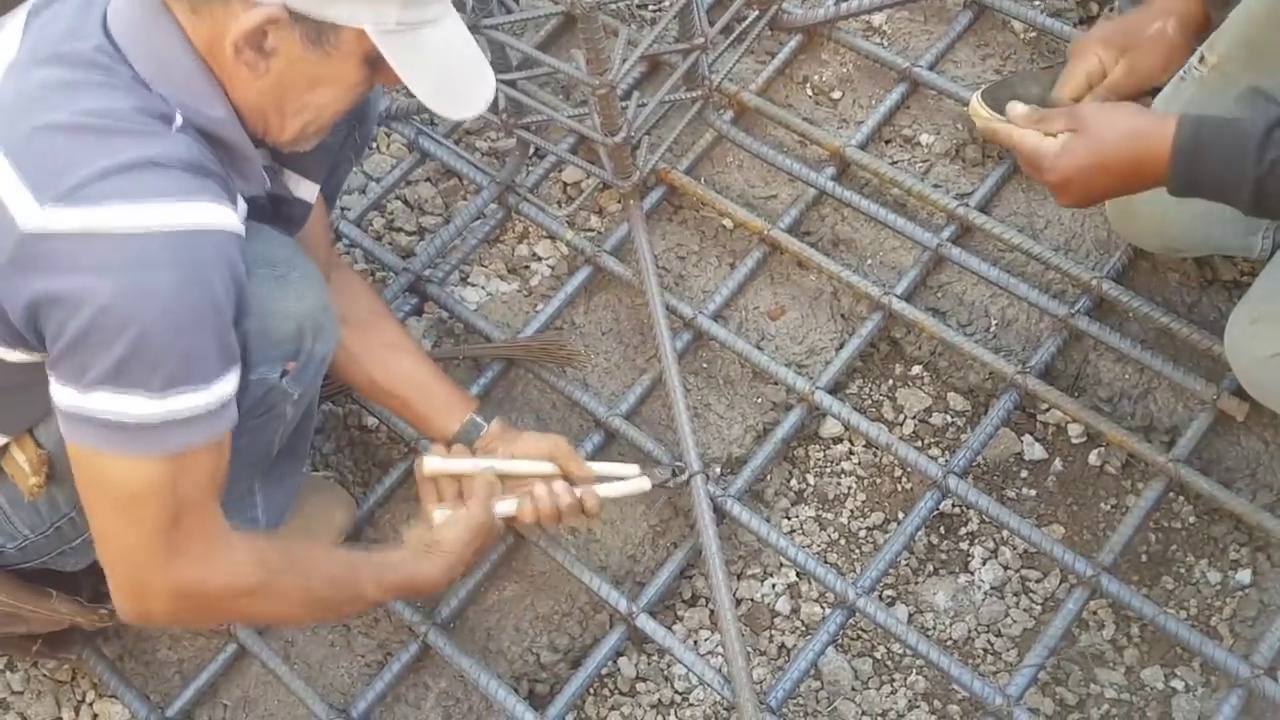helmet-off: (147, 8, 496, 160)
person: (0, 0, 573, 720), (937, 0, 1280, 391)
